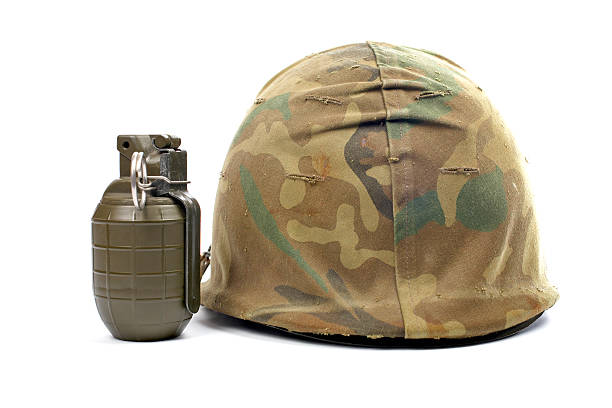e1: (88, 133, 201, 344)
